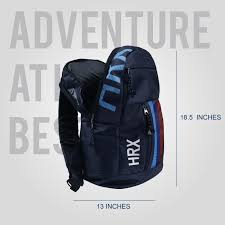backpack: (58, 45, 164, 191)
